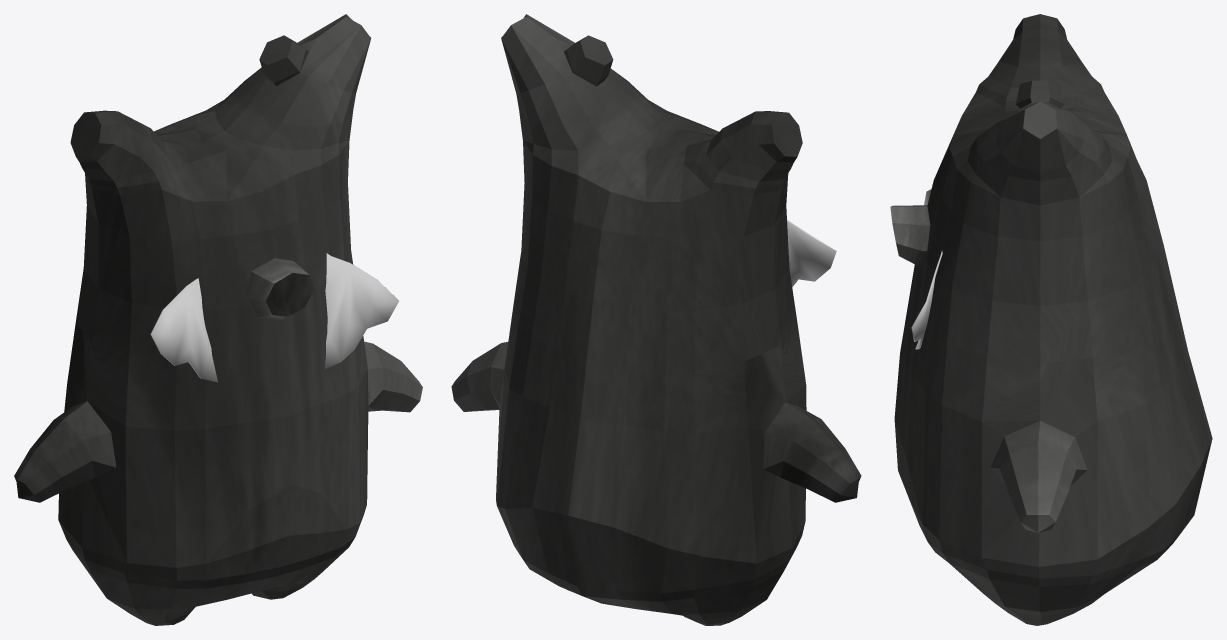
Rendered from frame_0029.obj.
The picture shows the model from 3 angles, left to right: view 1: azimuth 30°, elevation 25°; view 2: azimuth 150°, elevation 25°; view 3: azimuth 270°, elevation 25°; orthographic projection.
Visible parts, largest first — view 1: korok, leaf, nose; view 2: korok, leaf; view 3: korok, nose, leaf.
Part boxes in pixels (x1,y1,x2,y2): korok: [14, 14, 422, 625]; leaf: [150, 253, 398, 382]; nose: [245, 258, 314, 320]; korok: [451, 14, 861, 625]; leaf: [787, 220, 836, 286]; korok: [894, 14, 1212, 625]; nose: [890, 205, 930, 266]; leaf: [911, 189, 942, 349].
Size of the model in its own units: 1.69 by 2.26 by 1.18.
